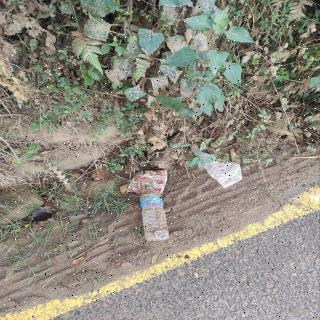Plastic-bottle: (137, 182, 172, 244)
